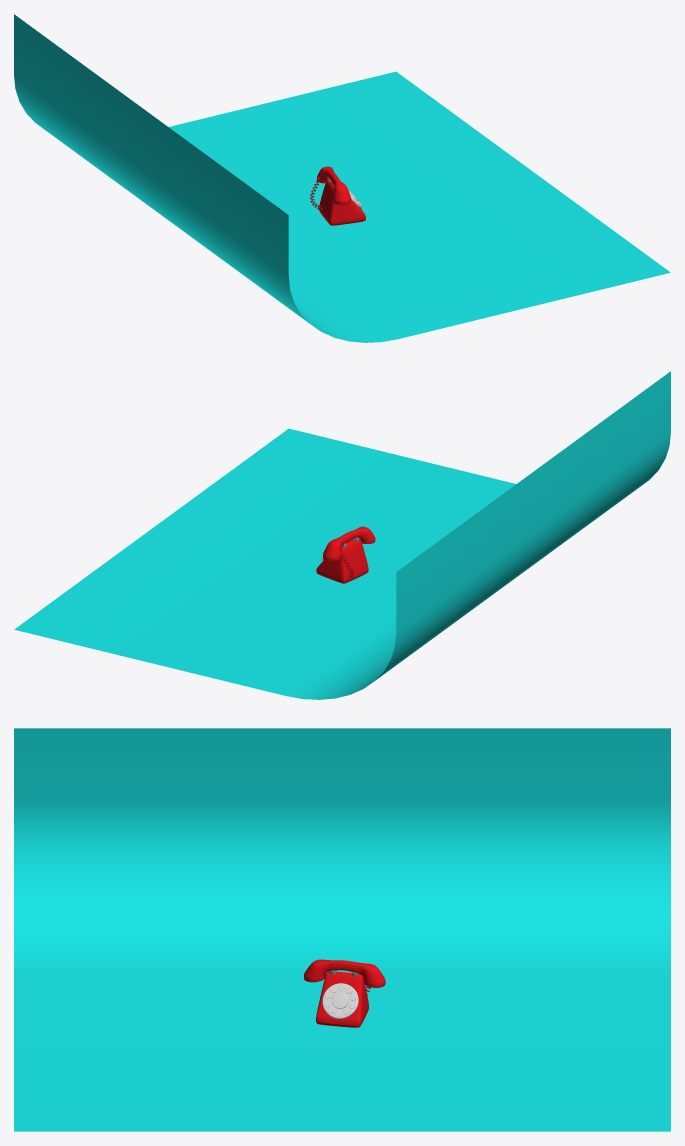
File: uploads_files_3702827_bubblephone.fbx
3 views of the same model, one above another, from view 1: azimuth 30°, elevation 25°; view 2: azimuth 150°, elevation 25°; view 3: azimuth 270°, elevation 25° (orthographic). The views are drawn at different scales.
Parts seen in each view (by area): view 1: Plane.002, Plane, Circle; view 2: Plane.002, Plane, Circle; view 3: Plane.002, Plane, Circle, Circle.001.
Part boxes in pixels (x1,y1,x2,y2): Plane.002: (14, 14, 670, 342); Plane: (319, 180, 365, 225); Circle: (317, 166, 350, 205); Plane.002: (14, 371, 670, 699); Plane: (316, 539, 368, 583); Circle: (323, 526, 375, 561); Plane.002: (14, 728, 670, 1131); Plane: (316, 971, 368, 1027); Circle: (304, 959, 385, 987); Circle.001: (322, 983, 358, 1018).
Bounding box in the file's own units: 22.19 × 8.36 × 27.64.
